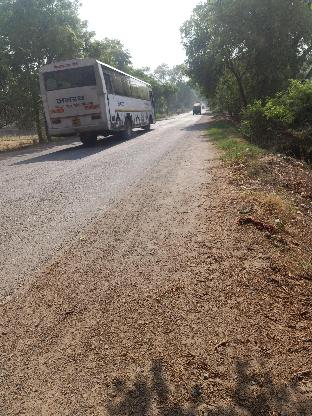bus: (38, 57, 156, 146)
